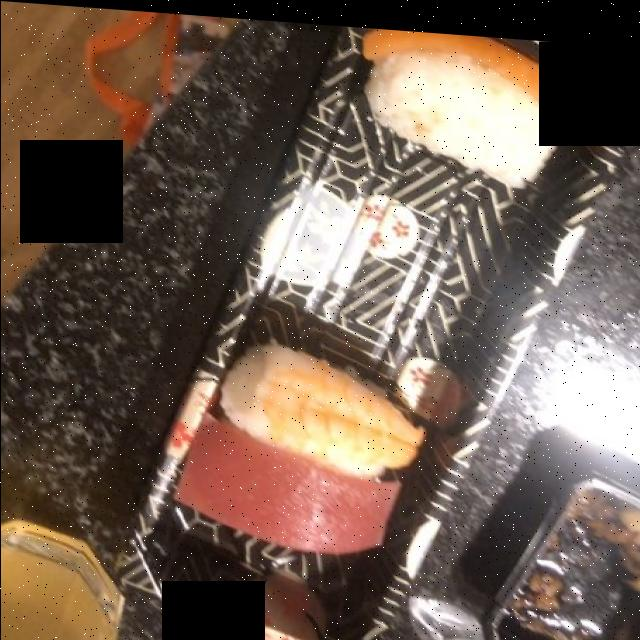sushi: (175, 338, 423, 556), (354, 29, 577, 187)
